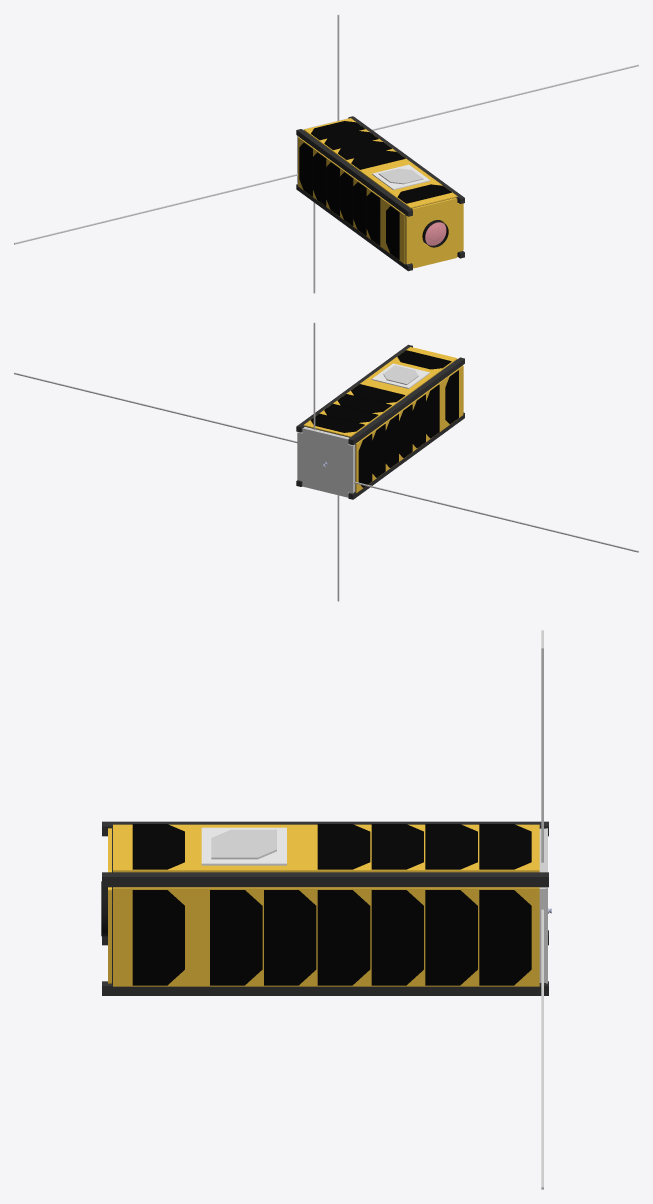
Rendered from 1015_3U_CNU.obj.
The picture shows the model from 3 angles, top to bottom: view 1: azimuth 30°, elevation 25°; view 2: azimuth 150°, elevation 25°; view 3: azimuth 270°, elevation 25°; orthographic projection. The views are drawn at different scales.
Parts seen in each view (by area): view 1: obj2, obj3, obj5, obj1, obj4; view 2: obj2, obj5, obj3, obj1, obj4; view 3: obj2, obj3, obj1, obj5, obj4.
Part boxes in pixels (box(x1,y1,x2,y2)): obj2: box(299, 121, 451, 259); obj3: box(298, 118, 463, 268); obj5: box(14, 14, 638, 293); obj1: box(296, 116, 464, 271); obj4: box(372, 164, 430, 189); obj2: box(310, 350, 458, 487); obj5: box(14, 322, 638, 601); obj3: box(303, 347, 463, 492); obj1: box(296, 344, 464, 499); obj4: box(371, 363, 429, 388); obj2: box(132, 824, 531, 985); obj3: box(108, 824, 539, 986); obj1: box(102, 821, 548, 995); obj5: box(211, 630, 547, 1189); obj4: box(201, 827, 286, 865).
Bounding box in the file's own units: 1098 × 458 × 343.
